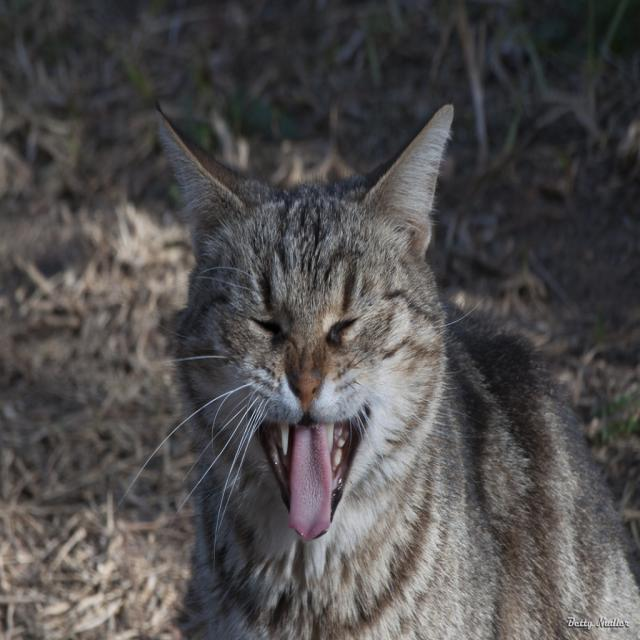Cat: (114, 103, 638, 638)
